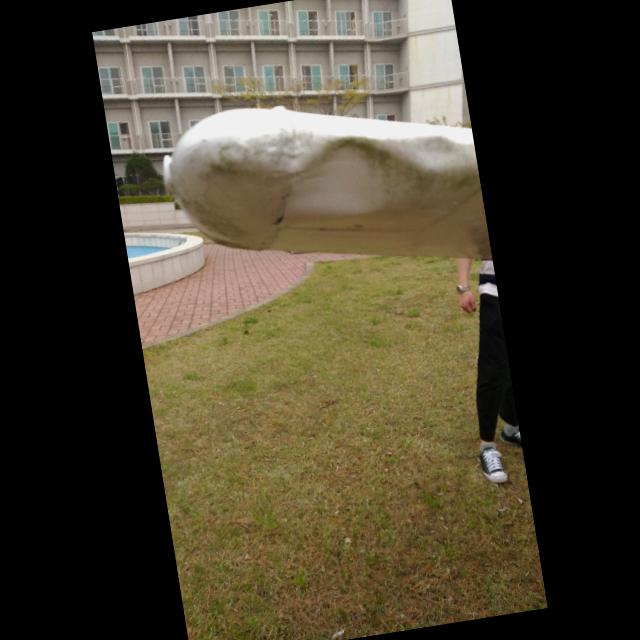dent: (274, 120, 405, 226), (407, 126, 463, 176)
